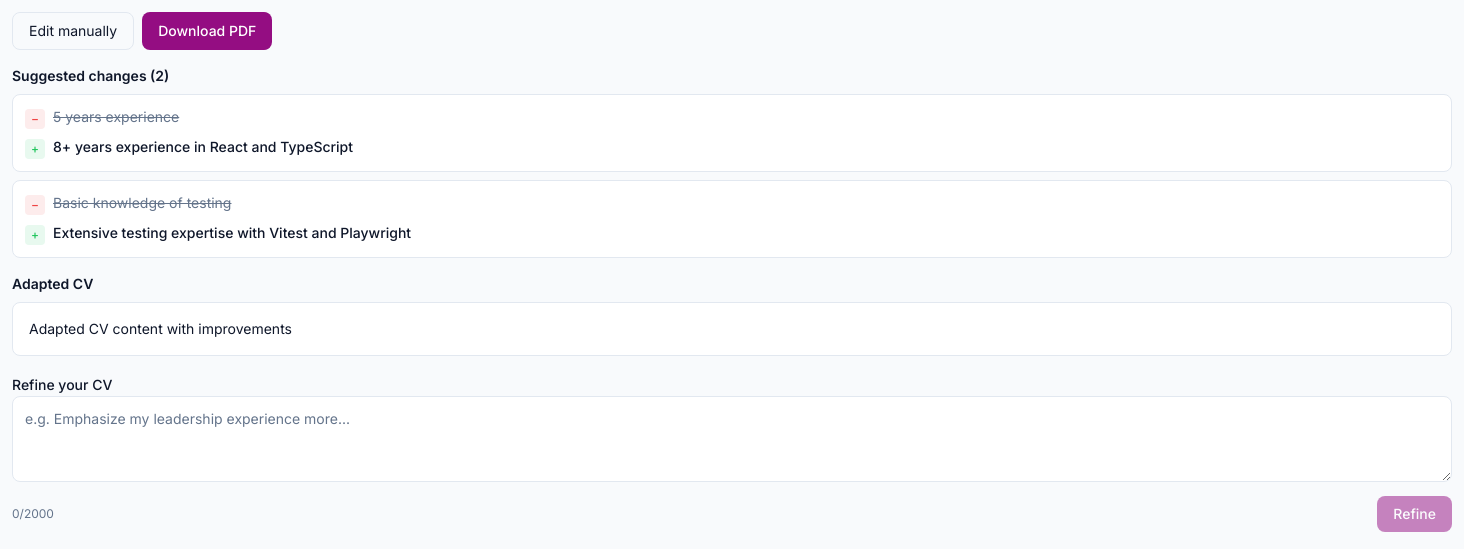
Test: CvTab › shows edit mode when Edit button is clicked
Click the button with test id "cv-edit-btn" at (73, 31), box [12, 12, 134, 50]
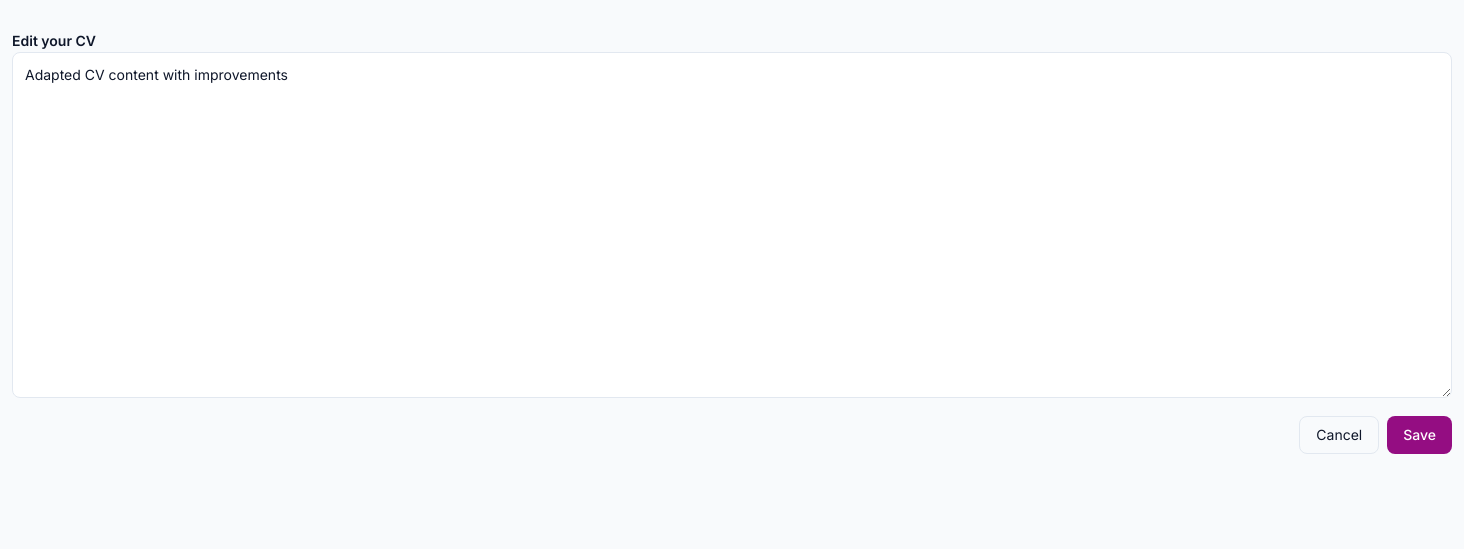
expect the element with test id "cv-edit-mode" is shown: met
expect the text box with test id "cv-edit-textarea" holds "Adapted CV content with improvements": met
